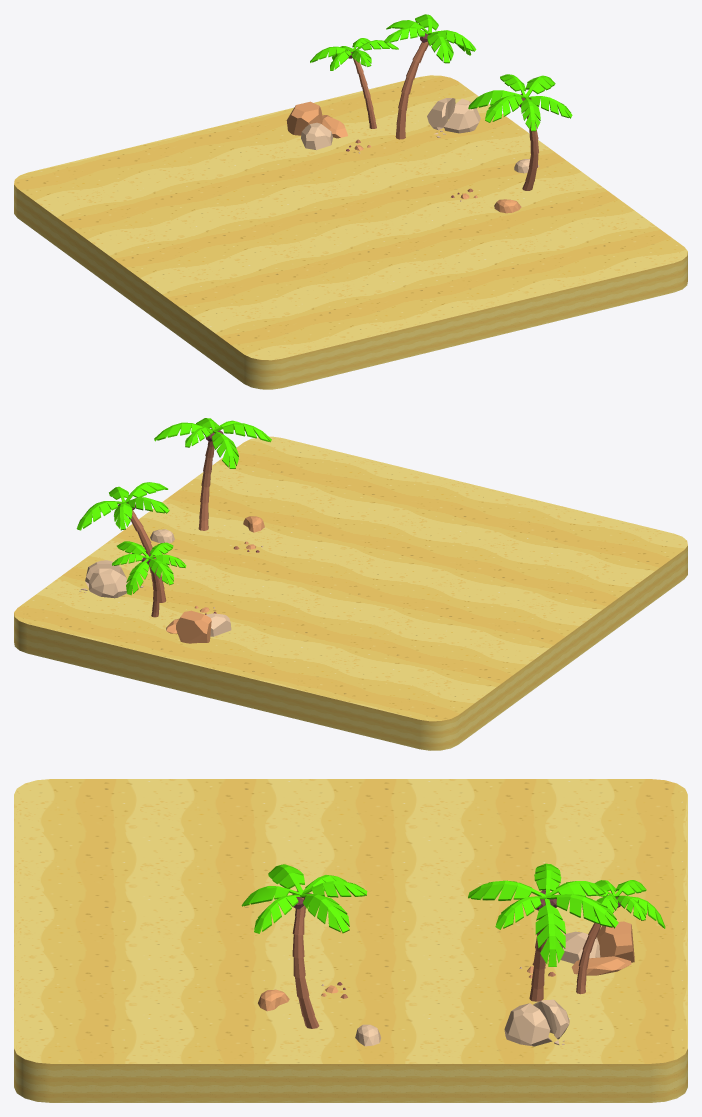
The model's file is Island.fbx.
3 renders of one model, top to bottom at view 1: azimuth 30°, elevation 25°; view 2: azimuth 150°, elevation 25°; view 3: azimuth 270°, elevation 25°, orthographic. The views are drawn at different scales.
Visible parts, largest first — view 1: Island, Palm_3, Palm_1, Rocks_4, Palm_2, Rock_1; view 2: Island, Palm_3, Palm_1, Palm_2, Rocks_4, Rock_1; view 3: Island, Palm_1, Palm_3, Rocks_4, Rock_1, Palm_2.
Part boxes in pixels (bbox=[...]): Island: bbox=[14, 75, 687, 389]; Palm_3: bbox=[468, 74, 572, 190]; Palm_1: bbox=[384, 14, 476, 139]; Rocks_4: bbox=[286, 101, 347, 149]; Palm_2: bbox=[310, 38, 398, 128]; Rock_1: bbox=[427, 98, 480, 137]; Island: bbox=[14, 436, 687, 750]; Palm_3: bbox=[154, 418, 271, 530]; Palm_1: bbox=[76, 482, 169, 602]; Palm_2: bbox=[112, 541, 186, 617]; Rocks_4: bbox=[166, 610, 231, 643]; Rock_1: bbox=[79, 560, 143, 598]; Island: bbox=[14, 779, 687, 1102]; Palm_1: bbox=[468, 863, 618, 1001]; Palm_3: bbox=[241, 864, 367, 1028]; Rocks_4: bbox=[559, 921, 634, 975]; Rock_1: bbox=[504, 999, 569, 1046]; Palm_2: bbox=[576, 880, 665, 994].
Bounding box in the file's own units: 1002 × 297 × 1002.
